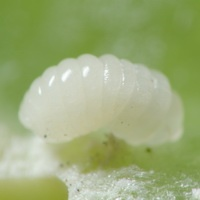insect: (19, 54, 182, 144)
